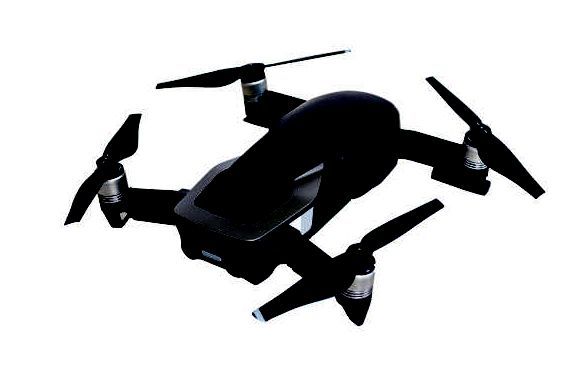Drone: (55, 42, 549, 334)
